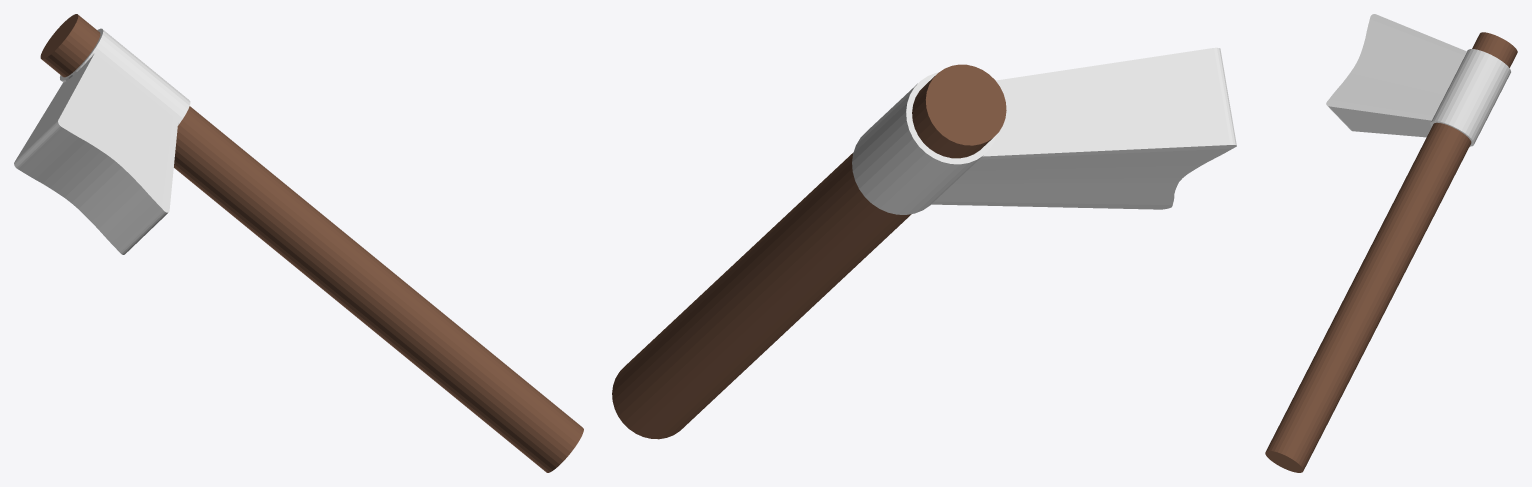
File: Axe.fbx
3 renders of one model, left to right at view 1: azimuth 30°, elevation 25°; view 2: azimuth 150°, elevation 25°; view 3: azimuth 270°, elevation 25°, orthographic. The views are drawn at different scales.
Parts seen in each view (by area): view 1: AxeMesh; view 2: AxeMesh; view 3: AxeMesh.
Boxes of the visible parts, box(x1,y1,x2,y2) form: AxeMesh: box(14, 14, 583, 472); AxeMesh: box(612, 47, 1236, 439); AxeMesh: box(1265, 14, 1517, 472).
Bounding box in the file's own units: 427 × 359 × 258.
